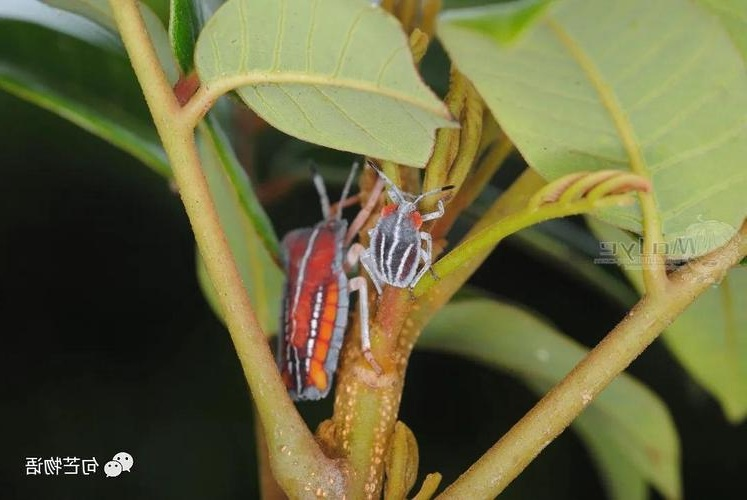Stink_Bug: (277, 191, 364, 392), (370, 187, 444, 284)
